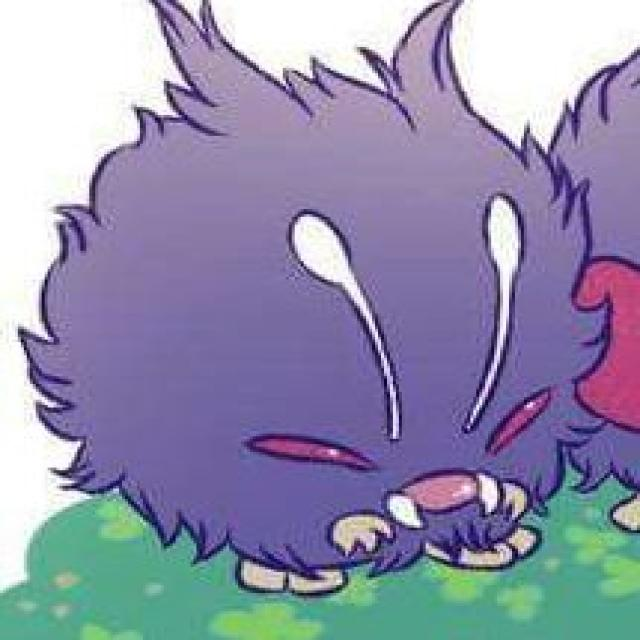Venonat: (42, 4, 586, 588)
